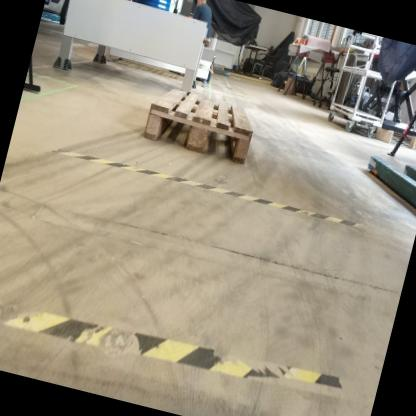BoxFace: (136, 84, 258, 174)
